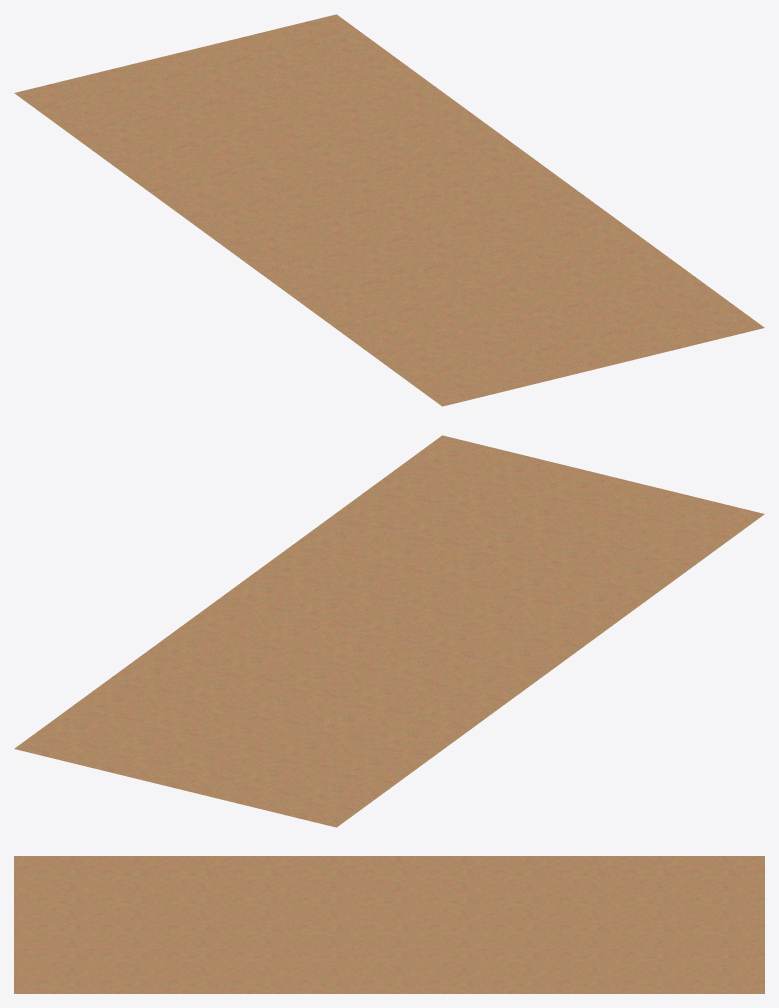
File: PlanExample_Soil_Unity6_Better_LOD0.obj
3 renders of one model, top to bottom at view 1: azimuth 30°, elevation 25°; view 2: azimuth 150°, elevation 25°; view 3: azimuth 270°, elevation 25°, orthographic. The views are drawn at different scales.
Parts seen in each view (by area): view 1: PlanExample_Soil_Unity6_Better_LOD0; view 2: PlanExample_Soil_Unity6_Better_LOD0; view 3: PlanExample_Soil_Unity6_Better_LOD0.
Boxes of the visible parts, x1=… form: PlanExample_Soil_Unity6_Better_LOD0: x1=14, y1=14, x2=764, y2=406; PlanExample_Soil_Unity6_Better_LOD0: x1=14, y1=435, x2=764, y2=827; PlanExample_Soil_Unity6_Better_LOD0: x1=14, y1=856, x2=764, y2=993.
Size of the model in its own units: 20 by 0 by 46.
1 material, 1 textured.
